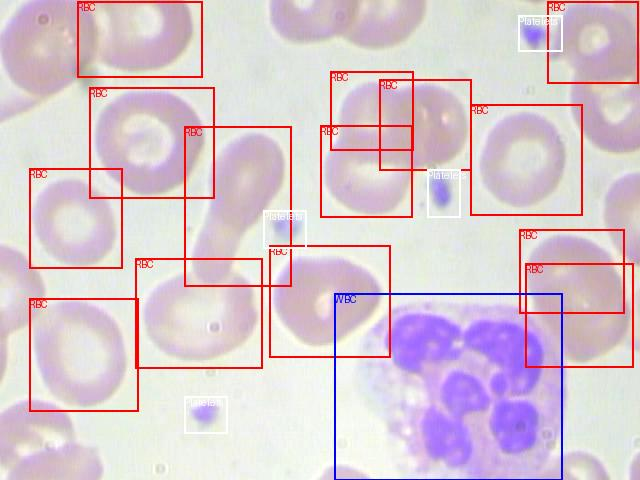Platelets: (263, 210, 306, 248), (184, 396, 227, 433), (427, 169, 460, 217), (518, 15, 562, 51)
RBC: (184, 126, 291, 286), (135, 258, 262, 368), (89, 87, 214, 198), (269, 245, 390, 357), (470, 104, 582, 215), (29, 298, 138, 411), (525, 263, 633, 367), (77, 1, 202, 77), (29, 168, 122, 268), (519, 229, 624, 313), (320, 125, 412, 217), (379, 79, 471, 170), (547, 1, 638, 83), (330, 71, 413, 150)
WBC: (334, 293, 562, 480)
